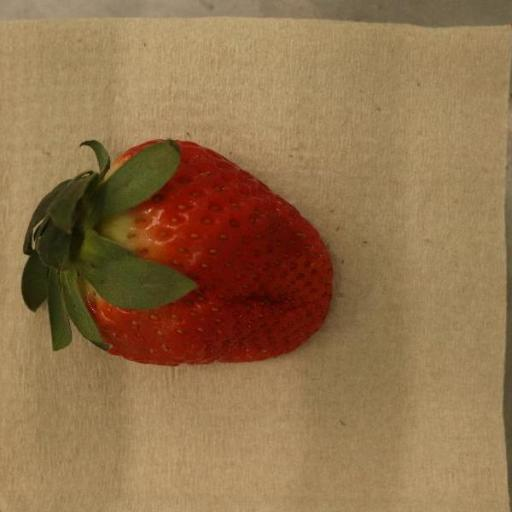Strawberry: (20, 139, 334, 368)
